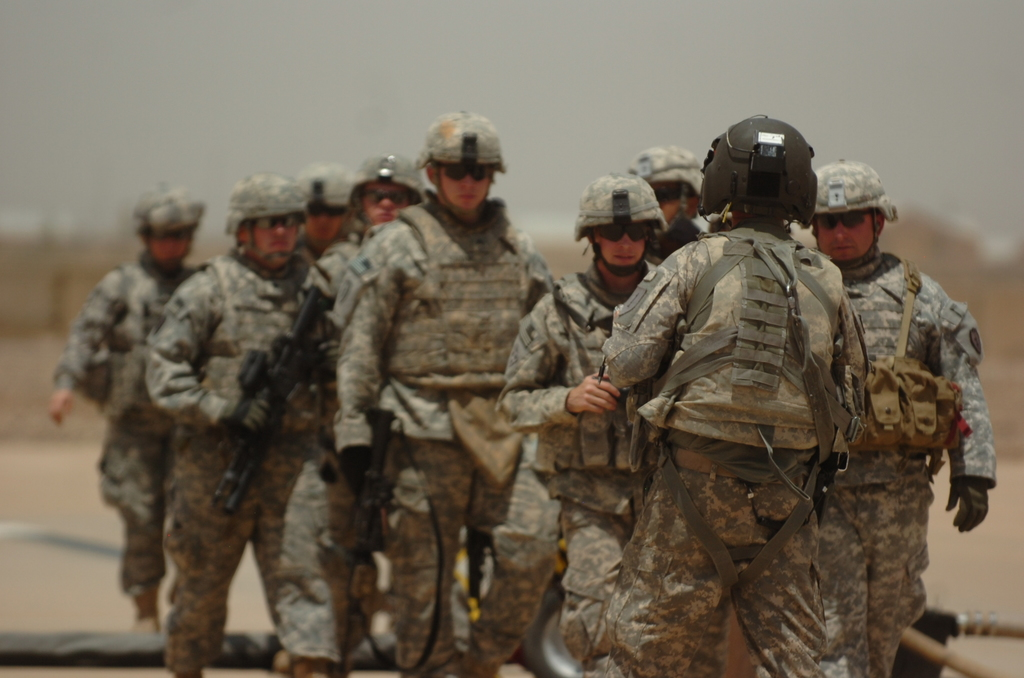Person: (48, 110, 997, 678)
